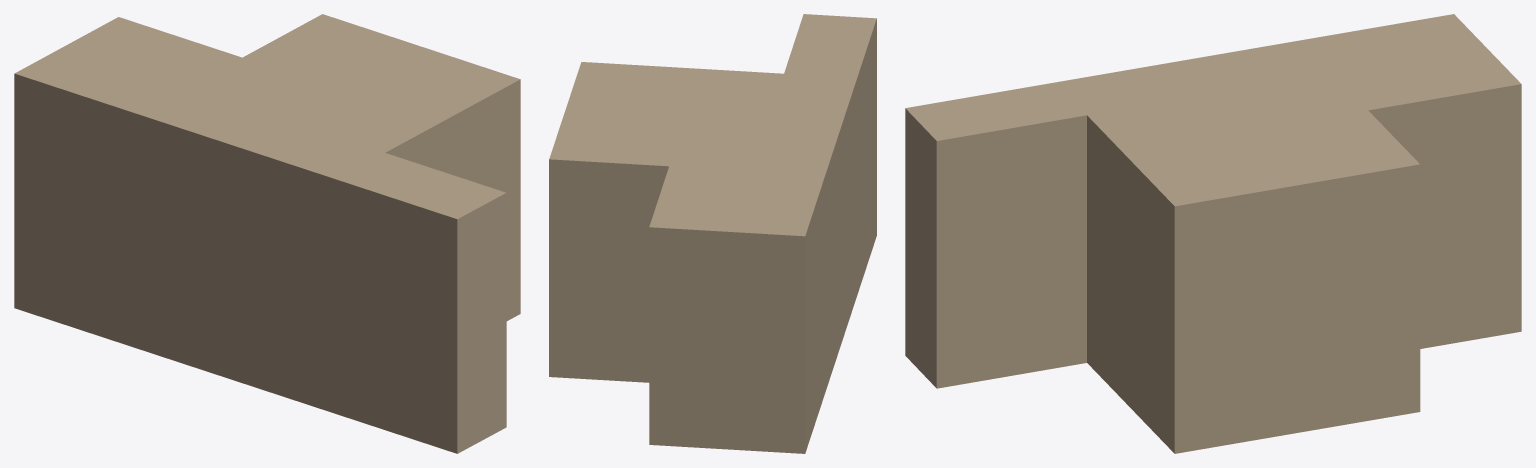
The model's file is bld_106455993.dae.
3 views of the same model, side by side, from view 1: azimuth 30°, elevation 25°; view 2: azimuth 150°, elevation 25°; view 3: azimuth 270°, elevation 25° (orthographic). The views are drawn at different scales.
Parts seen in each view (by area): view 1: bld_106455993; view 2: bld_106455993; view 3: bld_106455993.
Part boxes in pixels (left/top/right/bottom): bld_106455993: left=14, top=14, right=520, bottom=453; bld_106455993: left=549, top=14, right=876, bottom=453; bld_106455993: left=905, top=14, right=1521, bottom=453.
Size of the model in its own units: 13.33 by 18.05 by 8.
